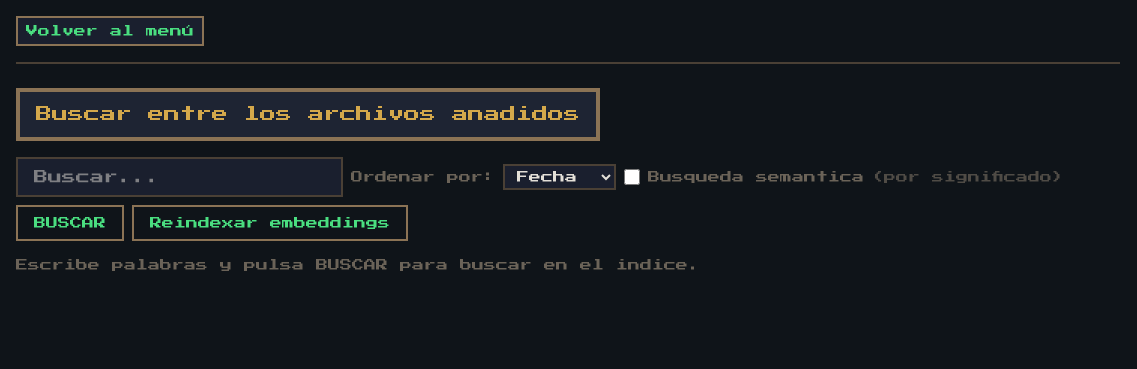
Test: Search › muestra resultados cuando la API devuelve datos
The width and height of the screenshot is (1137, 369).
What coordinates should you click on to do the following:
click the button "BUSCAR"
I would click on:
 (70, 223)
Its box is x1=16 y1=205 x2=124 y2=241.
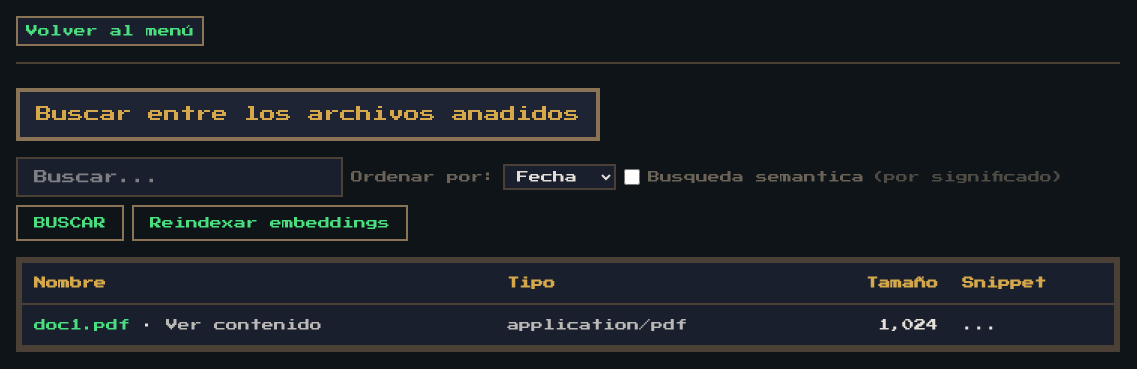
Expected: the link "doc1.pdf" is shown, x1=34 y1=319 x2=130 y2=331
